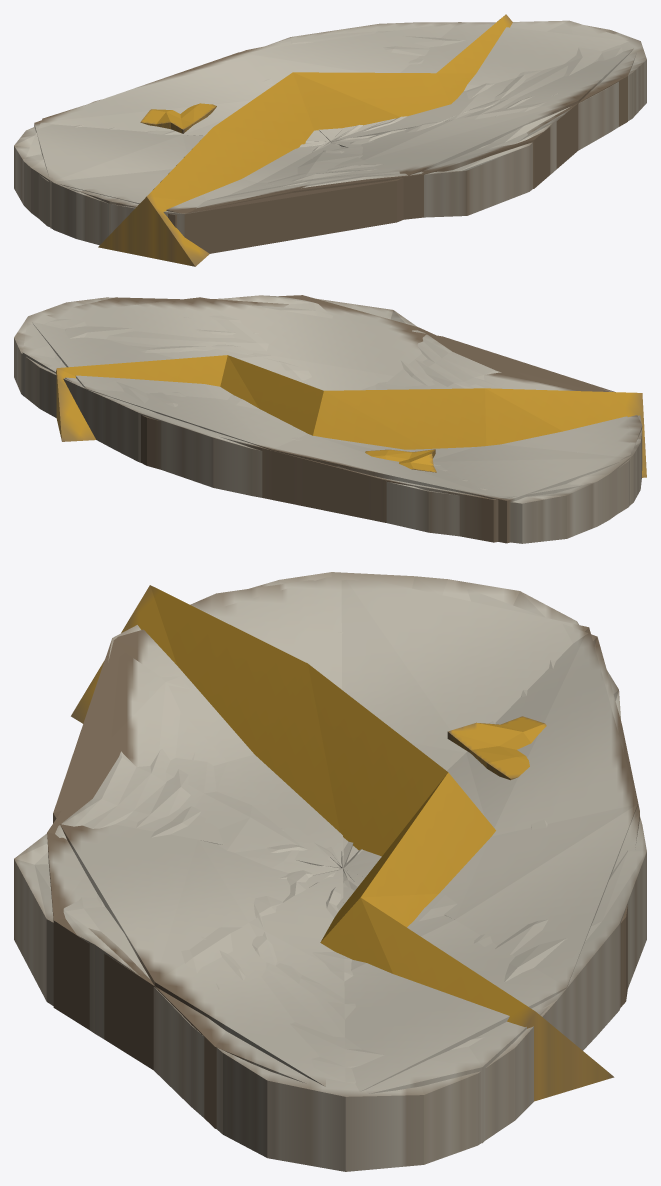
File: SF_INCL_GOLD_RIBBON_V1.glb
3 views of the same model, one above another, from view 1: azimuth 30°, elevation 25°; view 2: azimuth 150°, elevation 25°; view 3: azimuth 270°, elevation 25° (orthographic). The views are drawn at different scales.
Parts seen in each view (by area): view 1: LOD2_SF_INCL_GOLD_RIBBON_V1, LOD0_SF_INCL_GOLD_RIBBON_V1, LOD1_SF_INCL_GOLD_RIBBON_V1; view 2: LOD0_SF_INCL_GOLD_RIBBON_V1, LOD2_SF_INCL_GOLD_RIBBON_V1, LOD1_SF_INCL_GOLD_RIBBON_V1; view 3: LOD2_SF_INCL_GOLD_RIBBON_V1, LOD0_SF_INCL_GOLD_RIBBON_V1, LOD1_SF_INCL_GOLD_RIBBON_V1.
Boxes of the visible parts, x1,y1,x2,y2 form: LOD2_SF_INCL_GOLD_RIBBON_V1: (34, 22, 633, 253); LOD0_SF_INCL_GOLD_RIBBON_V1: (14, 14, 646, 266); LOD1_SF_INCL_GOLD_RIBBON_V1: (26, 20, 636, 234); LOD0_SF_INCL_GOLD_RIBBON_V1: (14, 295, 646, 543); LOD2_SF_INCL_GOLD_RIBBON_V1: (32, 297, 631, 543); LOD1_SF_INCL_GOLD_RIBBON_V1: (22, 295, 642, 542); LOD2_SF_INCL_GOLD_RIBBON_V1: (53, 577, 637, 1091); LOD0_SF_INCL_GOLD_RIBBON_V1: (14, 572, 646, 1171); LOD1_SF_INCL_GOLD_RIBBON_V1: (47, 580, 639, 1143).
Bounding box in the file's own units: 1.39 × 0.1584 × 0.7214.
Materials: 1 (1 with a texture image).
